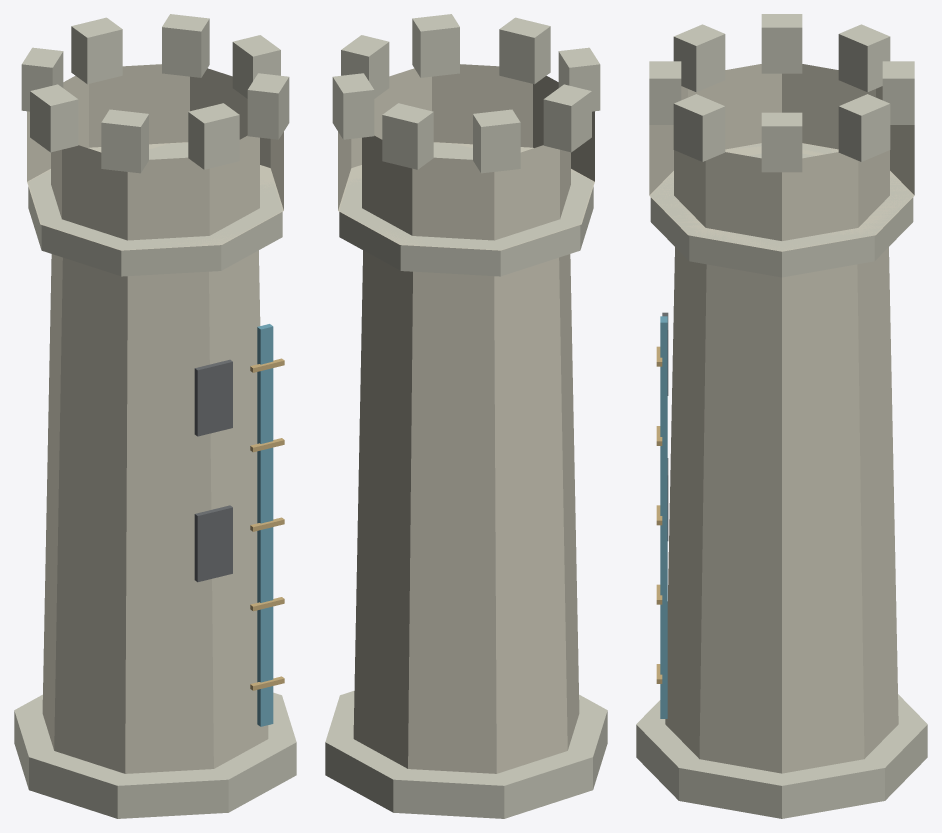
The model's file is tidal-watch-tower__252.glb.
The picture shows the model from 3 angles, left to right: view 1: azimuth 30°, elevation 25°; view 2: azimuth 150°, elevation 25°; view 3: azimuth 270°, elevation 25°; orthographic projection.
Visible parts, largest first — view 1: tidal-observatory-tide-watch-tower; view 2: tidal-observatory-tide-watch-tower; view 3: tidal-observatory-tide-watch-tower.
Boxes of the visible parts, x1,y1,x2,y2 form: tidal-observatory-tide-watch-tower: [14, 14, 296, 818]; tidal-observatory-tide-watch-tower: [325, 14, 607, 818]; tidal-observatory-tide-watch-tower: [636, 14, 927, 818].
Bounding box in the file's own units: 2 × 5.2 × 2.
